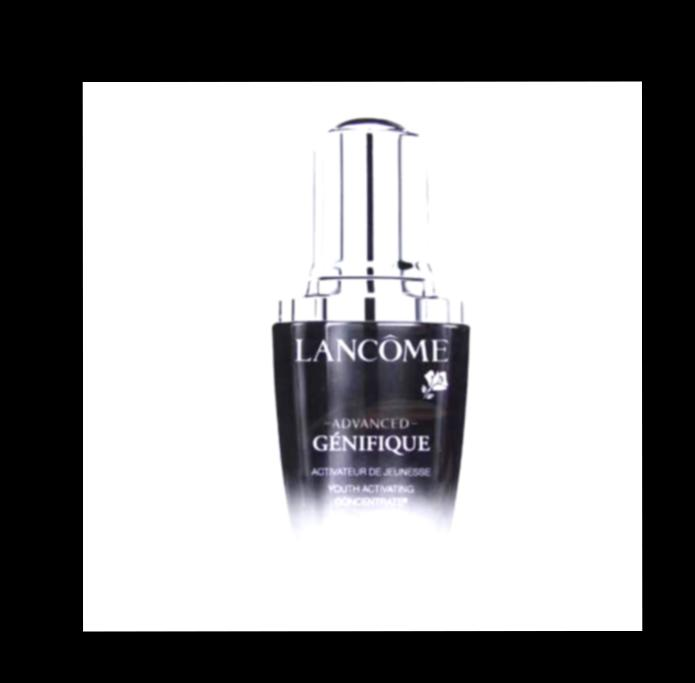cosmetic: (272, 115, 472, 599)
